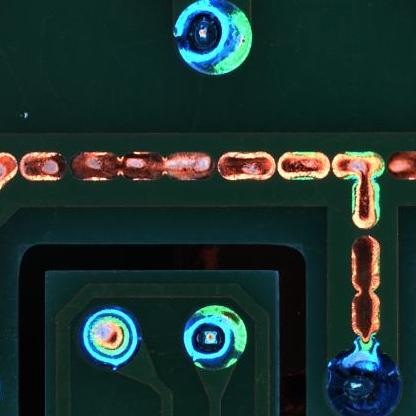spot: (171, 1, 253, 77), (320, 347, 405, 416), (181, 305, 248, 370), (81, 303, 143, 371)
